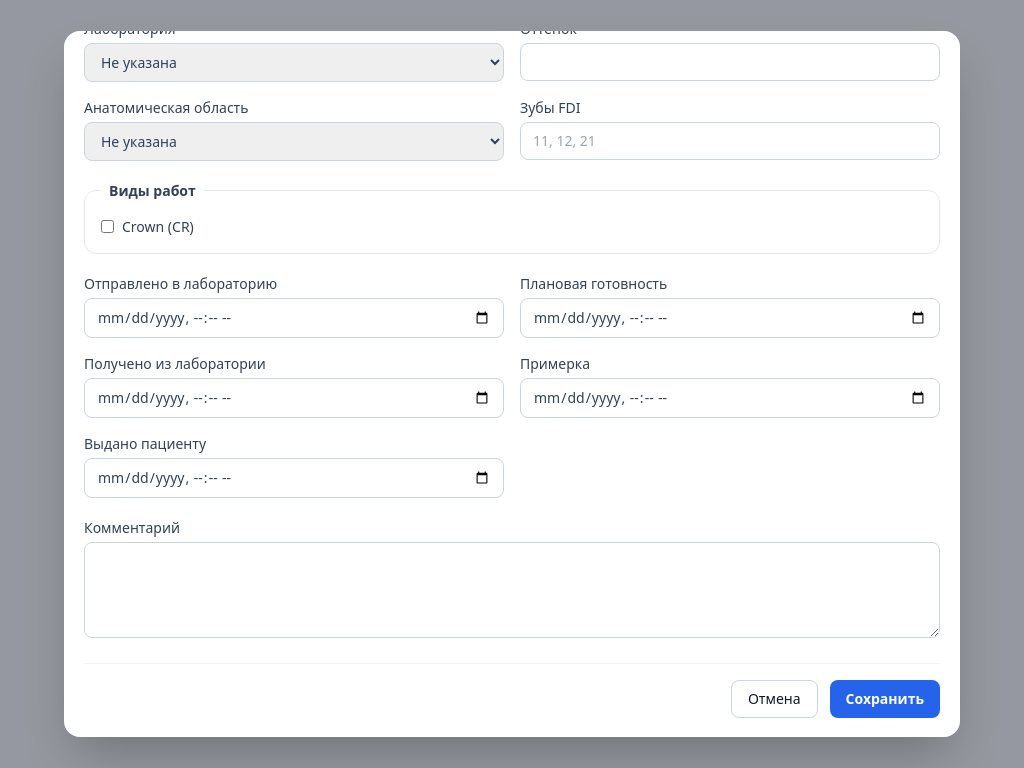
Test case: LaboratoryWorkOrderDialog › keeps patient fixed and blocks submit until required title is present
The width and height of the screenshot is (1024, 768).
(page scrolled)
What coordinates should you click on to do the following:
click the button with test id "laboratory-form-submit"
I would click on:
 (885, 699)
Its box is [830,680,940,718].
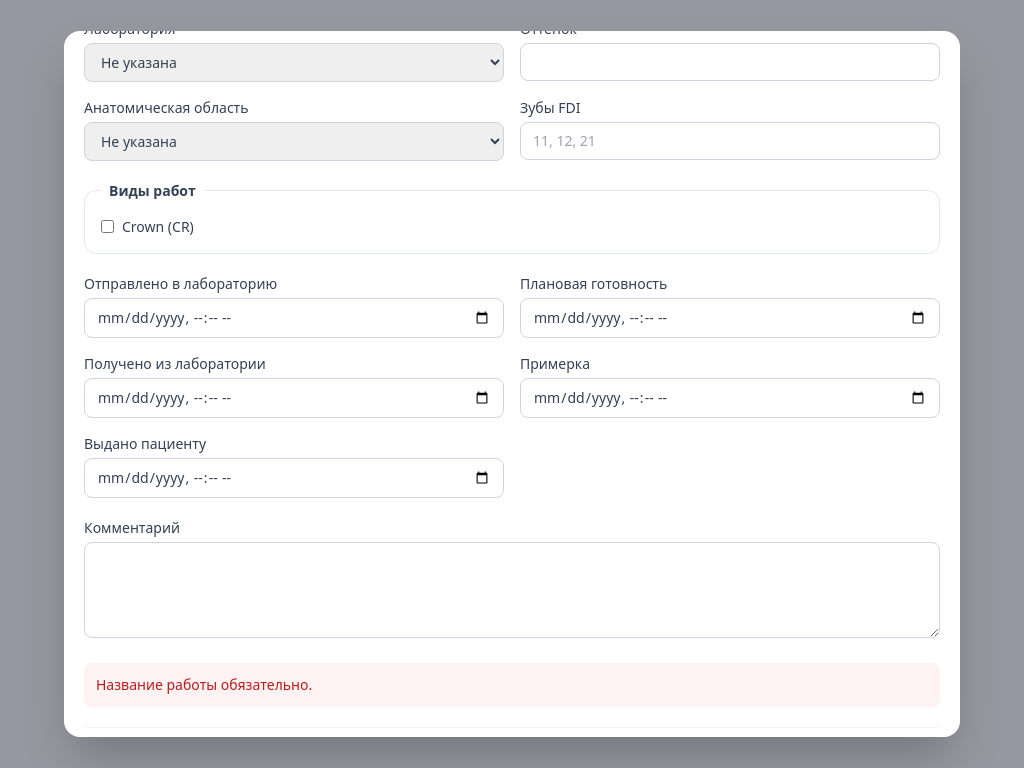
Now the text with test id "laboratory-form-error" shows "Название работы обязательно", box [96,675,312,694]
